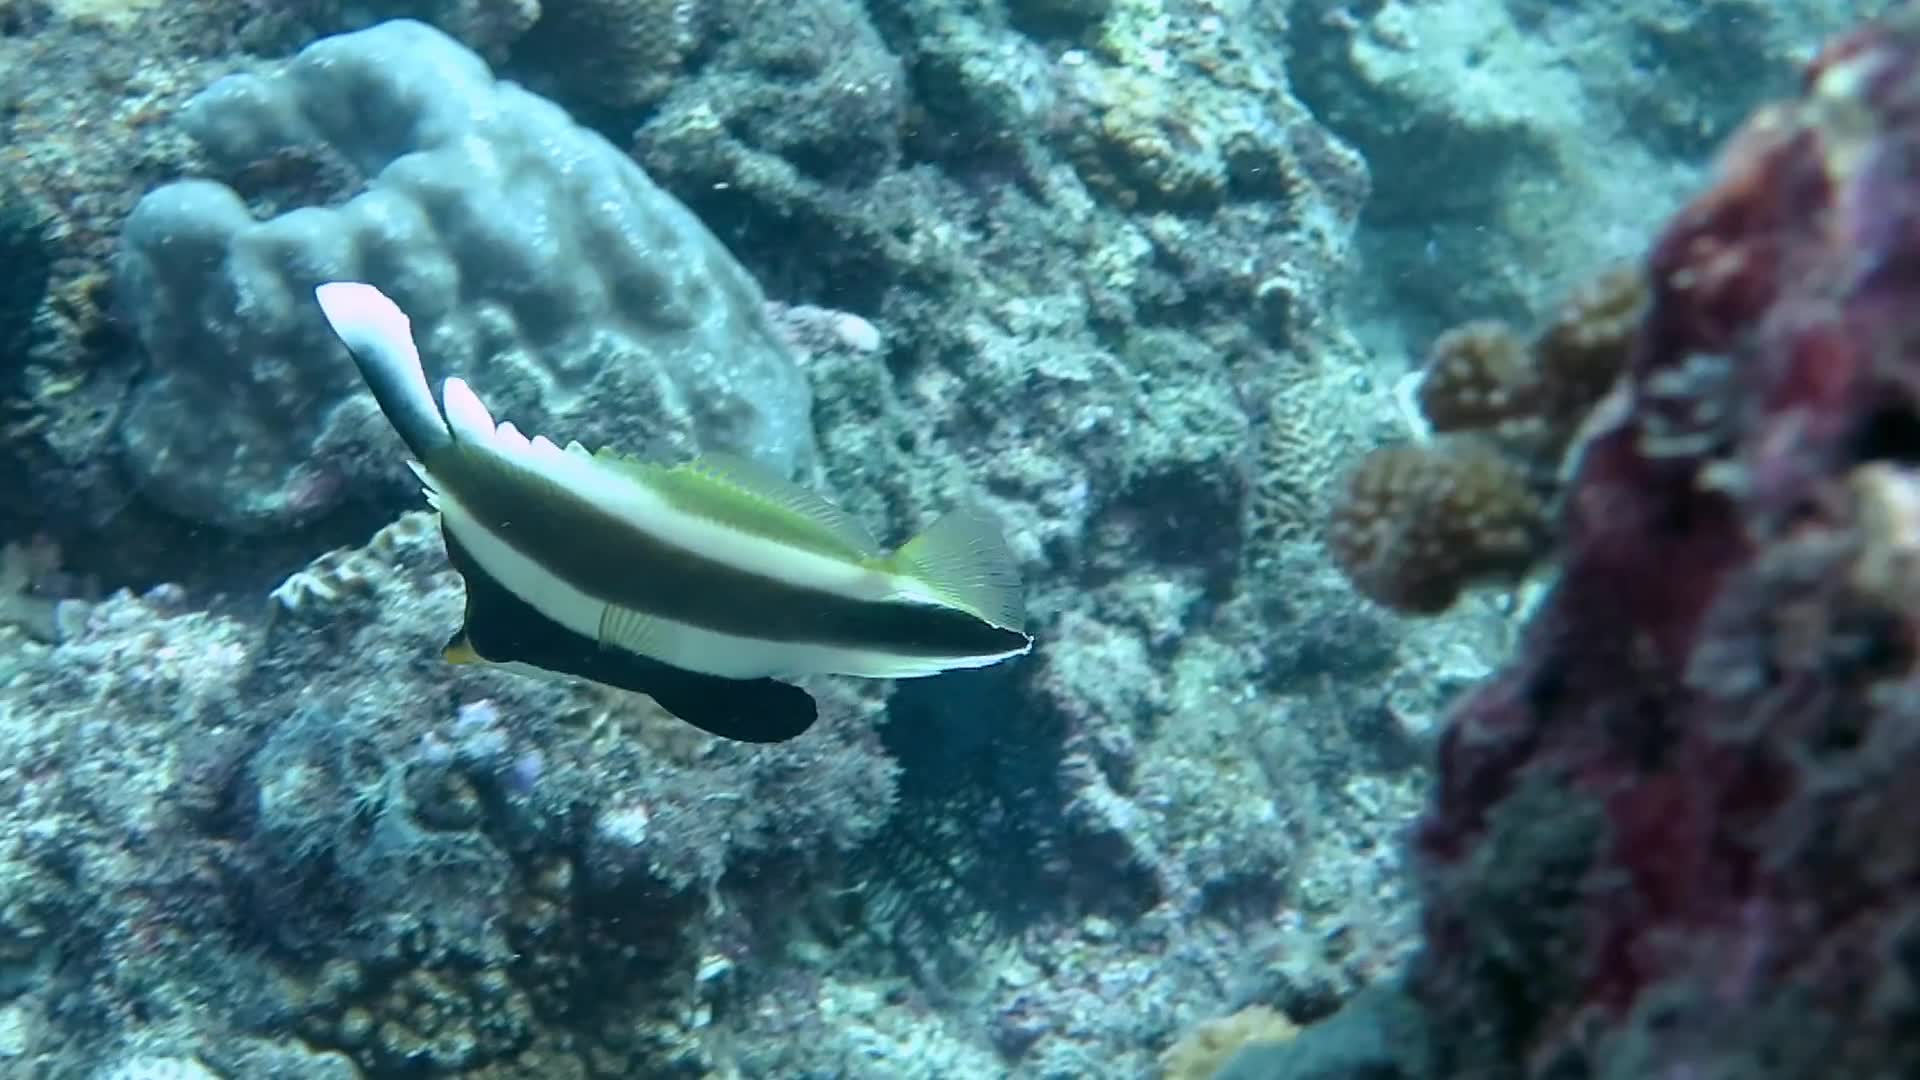Heniochus chrysostomus: (268, 249, 1069, 993)
